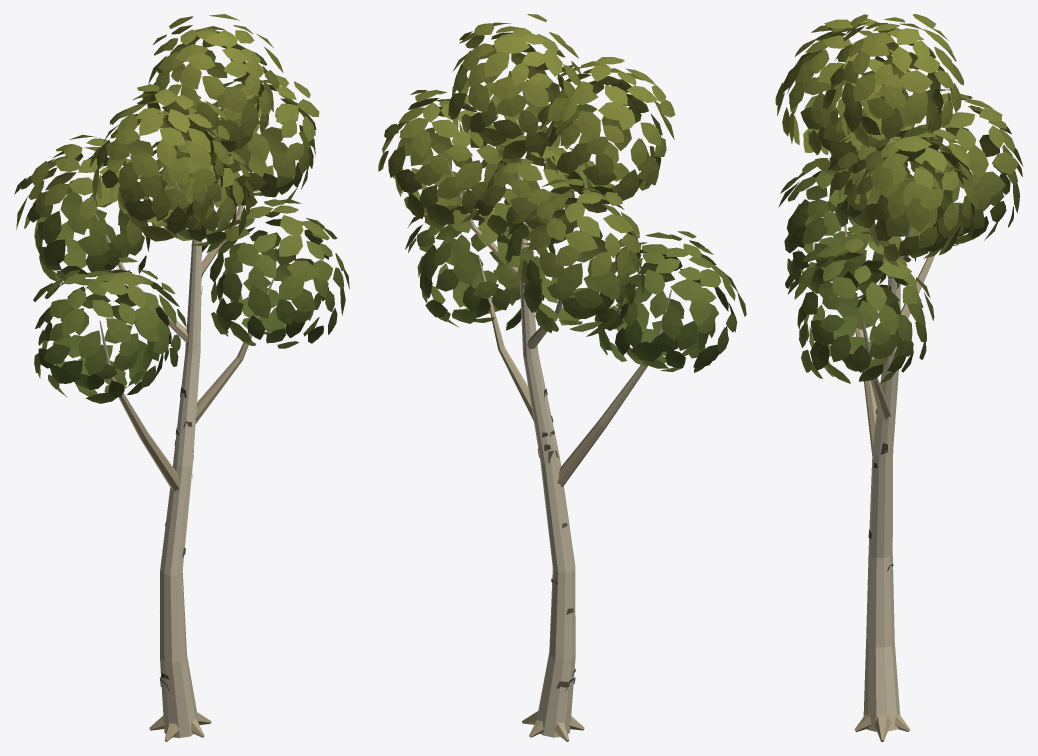
Rendered from dressing-birch.glb.
The picture shows the model from 3 angles, left to right: view 1: azimuth 30°, elevation 25°; view 2: azimuth 150°, elevation 25°; view 3: azimuth 270°, elevation 25°; orthographic projection. The views are drawn at different scales.
Visible parts, largest first — view 1: birch-airy-folded-crown, birch-pale-stems; view 2: birch-airy-folded-crown, birch-pale-stems; view 3: birch-airy-folded-crown, birch-pale-stems.
Part boxes in pixels (box(x1,y1,x2,y2)): birch-airy-folded-crown: box(14, 14, 349, 403); birch-pale-stems: box(94, 122, 275, 741); birch-airy-folded-crown: box(378, 14, 746, 372); birch-pale-stems: box(446, 119, 671, 741); birch-airy-folded-crown: box(775, 14, 1023, 383); birch-pale-stems: box(844, 138, 953, 741).
Size of the model in its own units: 3.46 by 7.33 by 2.27.
